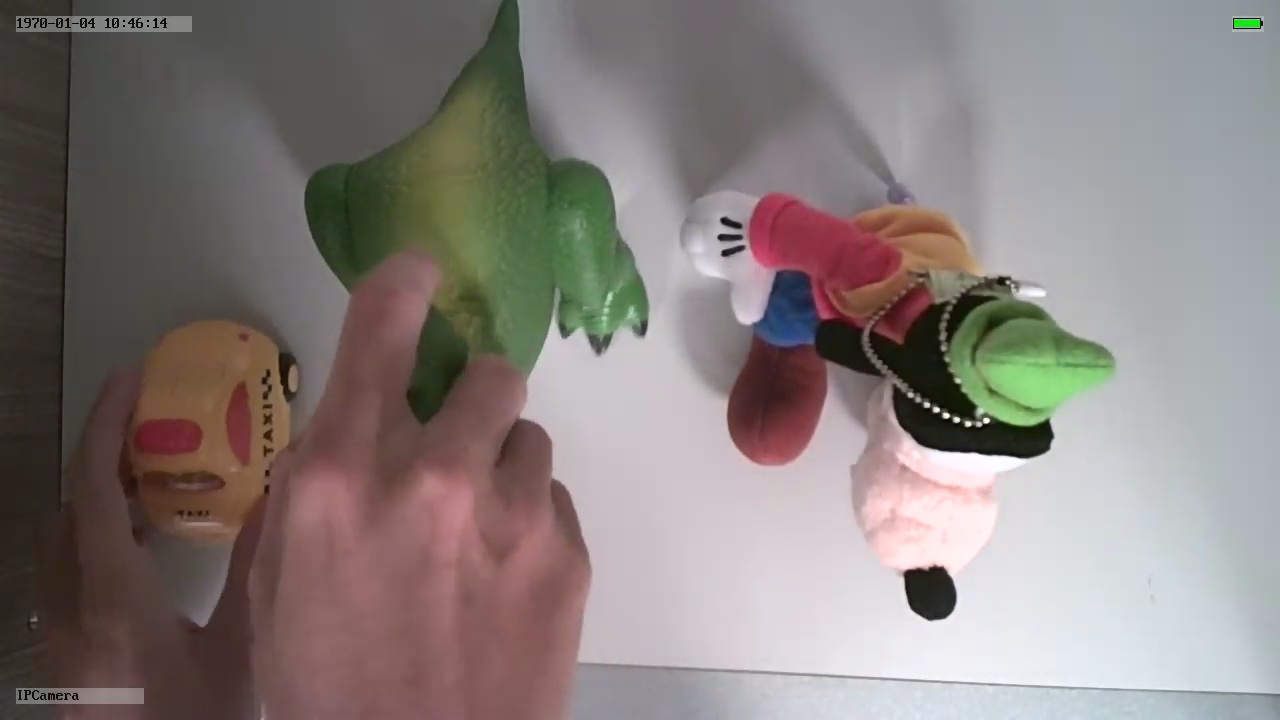goofy: (663, 179, 1118, 622)
